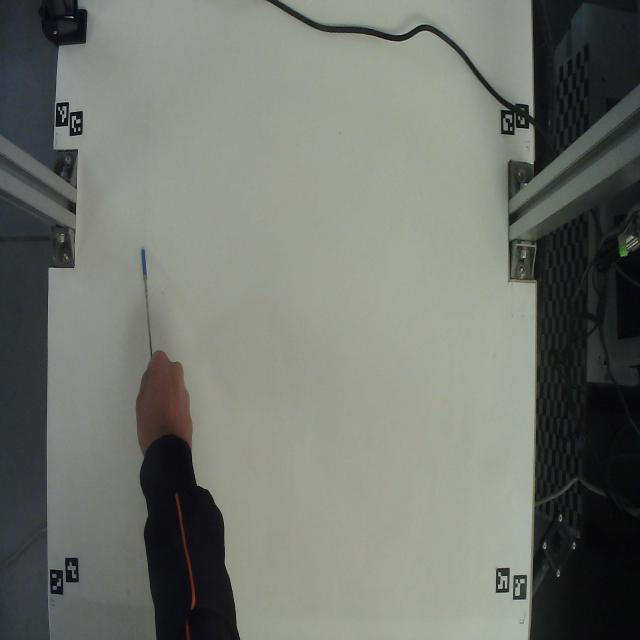Pres: (128, 228, 174, 366)
